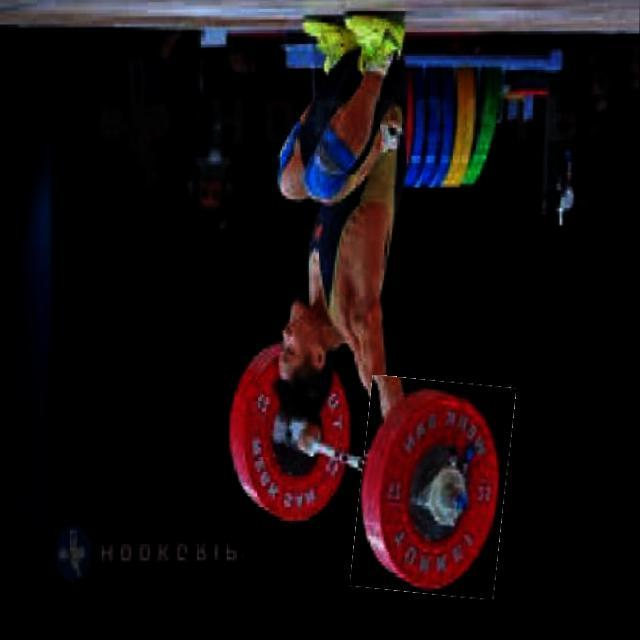barbell: (357, 379, 513, 598)
